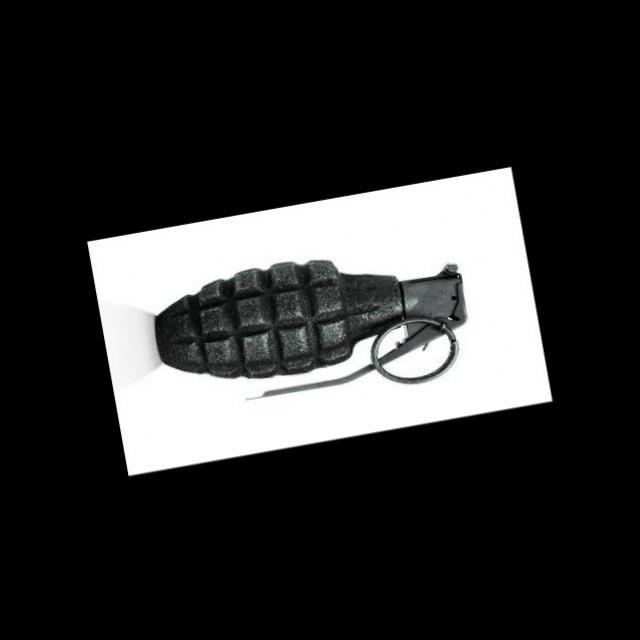grenade: (128, 218, 507, 433)
